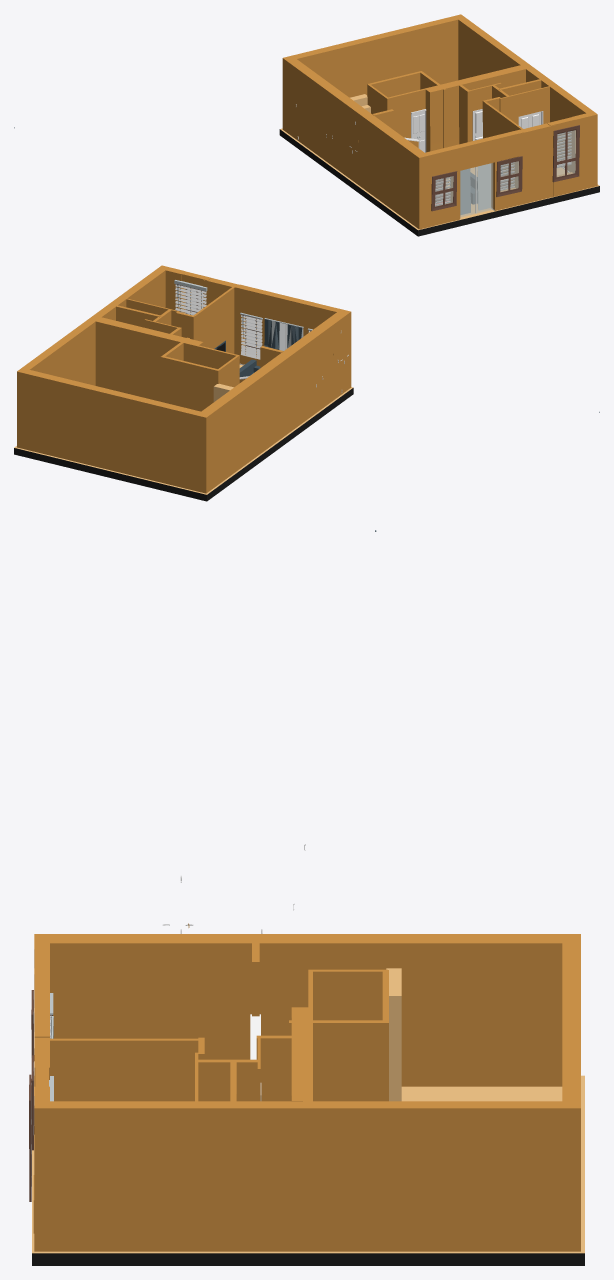
The model's file is bottomFloor_model.fbx.
3 renders of one model, top to bottom at view 1: azimuth 30°, elevation 25°; view 2: azimuth 150°, elevation 25°; view 3: azimuth 270°, elevation 25°, orthographic. The views are drawn at different scales.
Visible parts, largest first — view 1: group530085485; view 2: group530085485; view 3: group530085485.
Part boxes in pixels (left/top/right/bottom): group530085485: left=279, top=14, right=599, bottom=236; group530085485: left=14, top=265, right=353, bottom=501; group530085485: left=29, top=934, right=584, bottom=1265.
Bounding box in the file's own units: 753 × 178 × 363.
